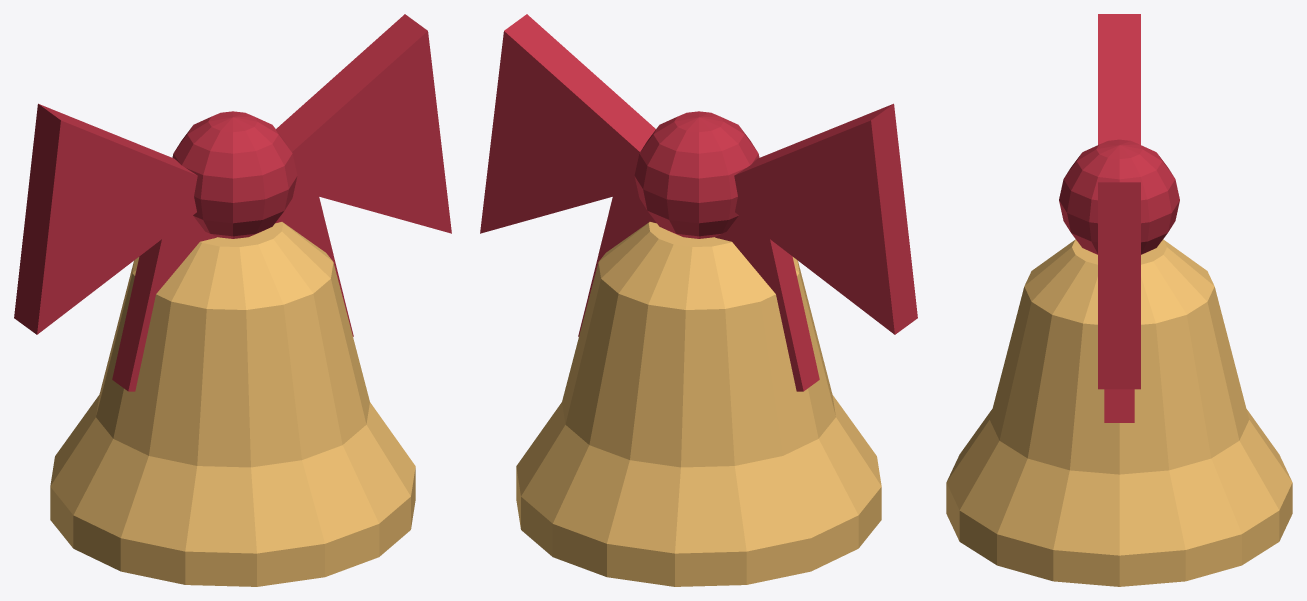
The model's file is bell.glb.
3 renders of one model, left to right at view 1: azimuth 30°, elevation 25°; view 2: azimuth 150°, elevation 25°; view 3: azimuth 270°, elevation 25°, orthographic. The views are drawn at different scales.
Visible parts, largest first — view 1: brass-bell; view 2: brass-bell; view 3: brass-bell.
Boxes of the visible parts, x1=… form: brass-bell: x1=14, y1=14, x2=451, y2=586; brass-bell: x1=480, y1=14, x2=917, y2=586; brass-bell: x1=946, y1=14, x2=1292, y2=586.
Size of the model in its own units: 0.52 by 0.53 by 0.4.
